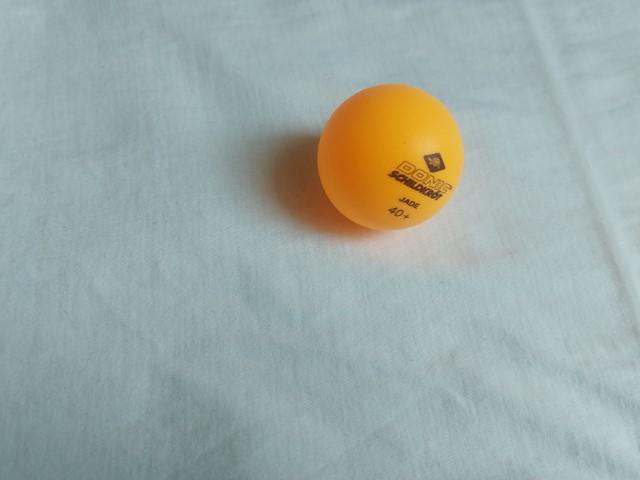oball: (306, 75, 478, 240)
